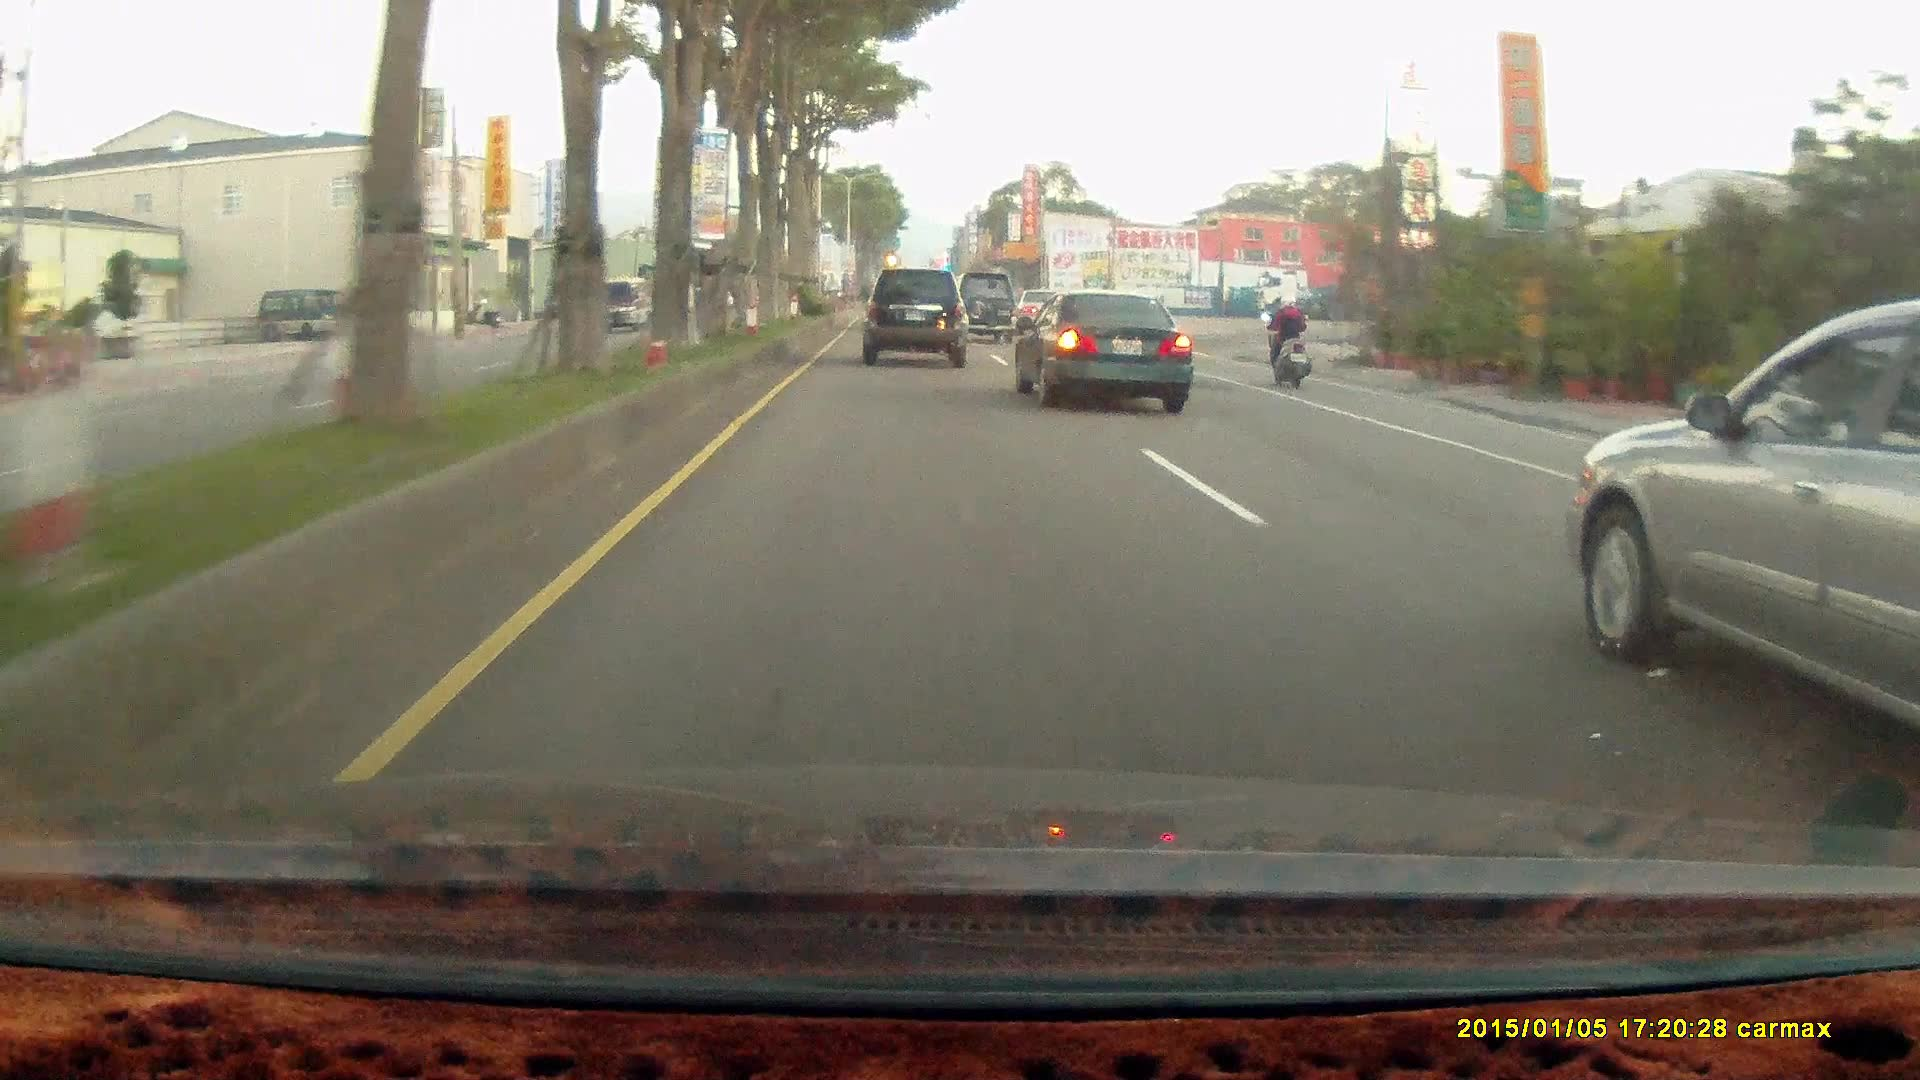rider: (1255, 286, 1321, 395), (1260, 287, 1313, 386)
vehicle: (1560, 296, 1920, 767), (1012, 288, 1193, 413), (1012, 286, 1192, 408), (1258, 263, 1490, 319), (862, 266, 969, 366), (859, 265, 966, 363), (948, 271, 1020, 345), (947, 270, 1018, 344), (258, 290, 357, 340), (586, 276, 654, 331)
